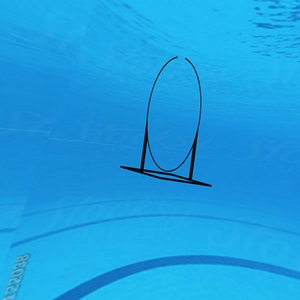circle: (119, 54, 215, 193)
